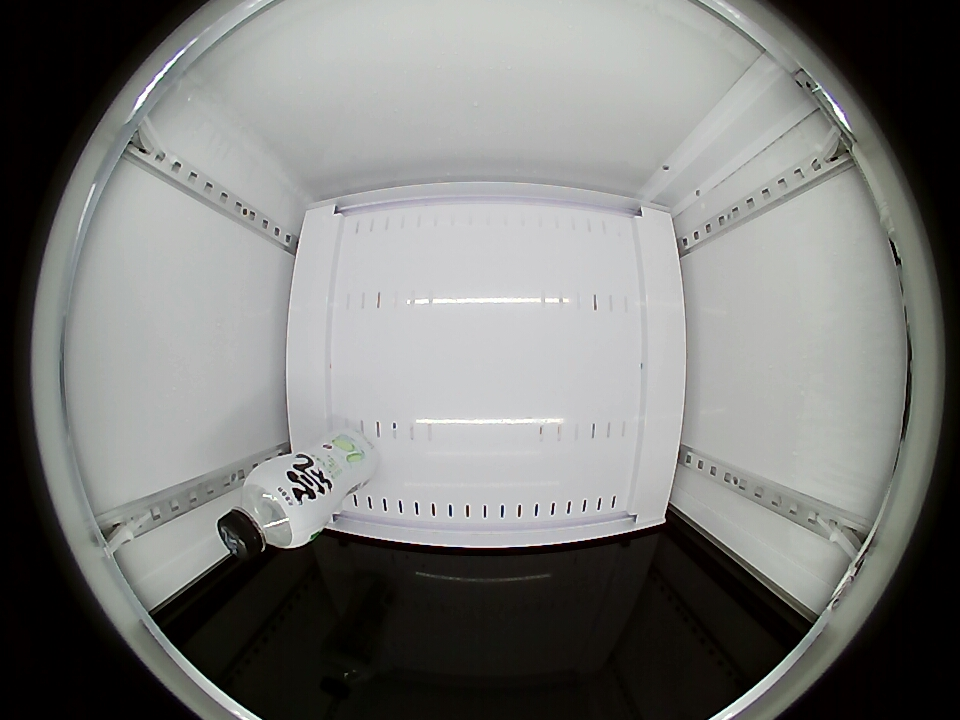yuanqishui: (216, 465, 317, 560)
